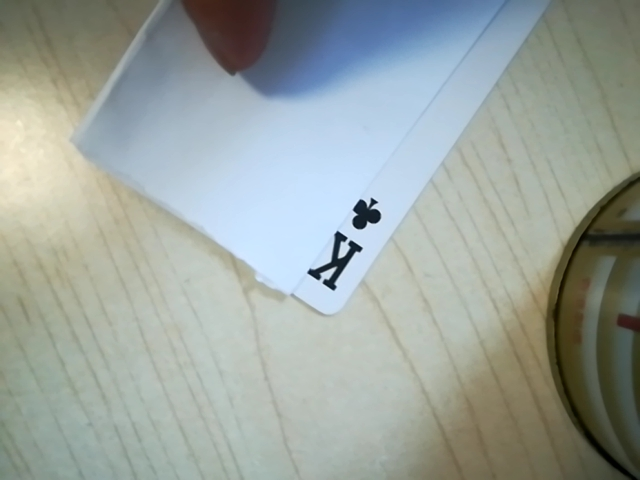mh k: (301, 187, 391, 294)
